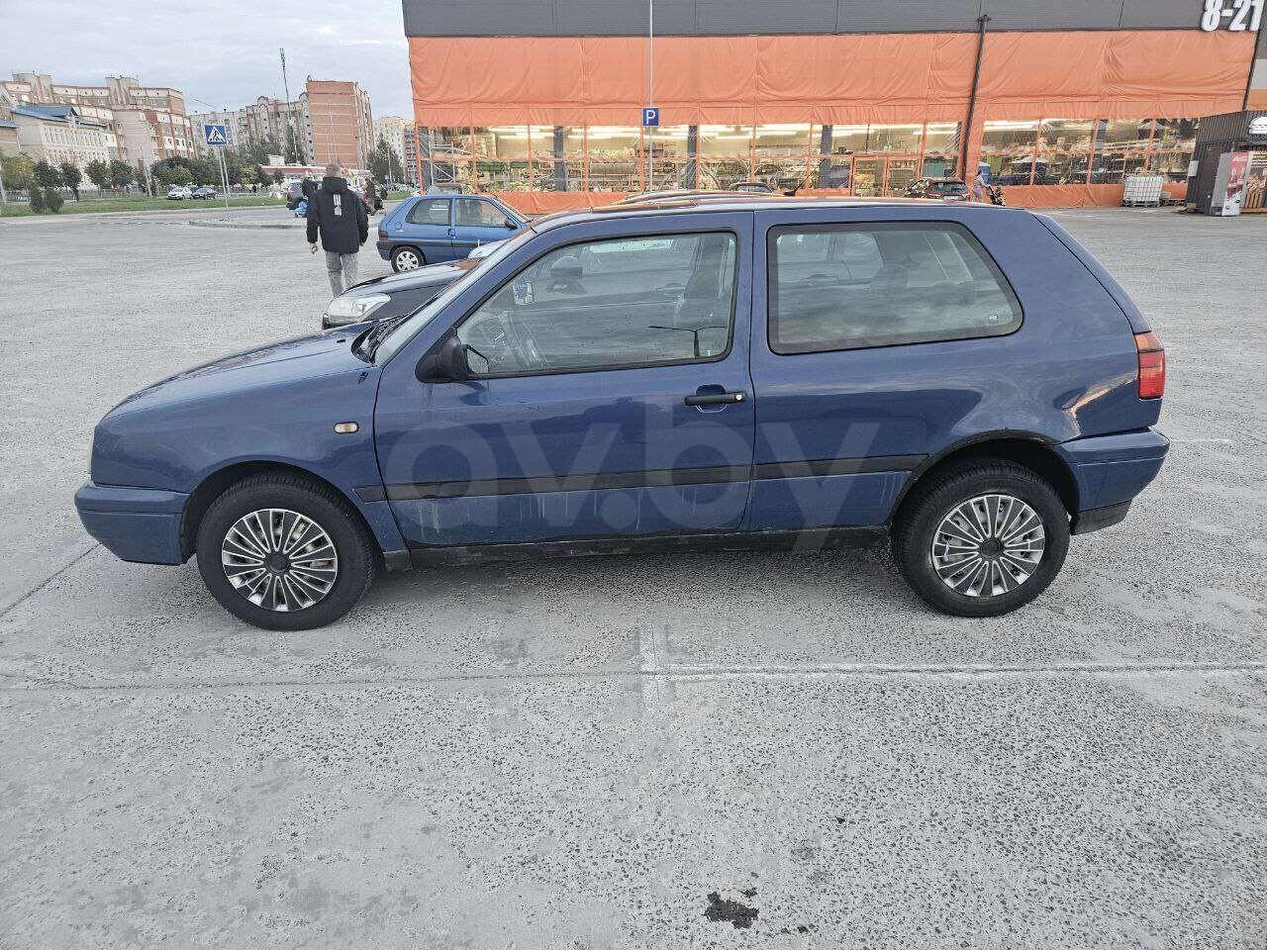Golf_1991-2000: (79, 182, 1171, 635)
